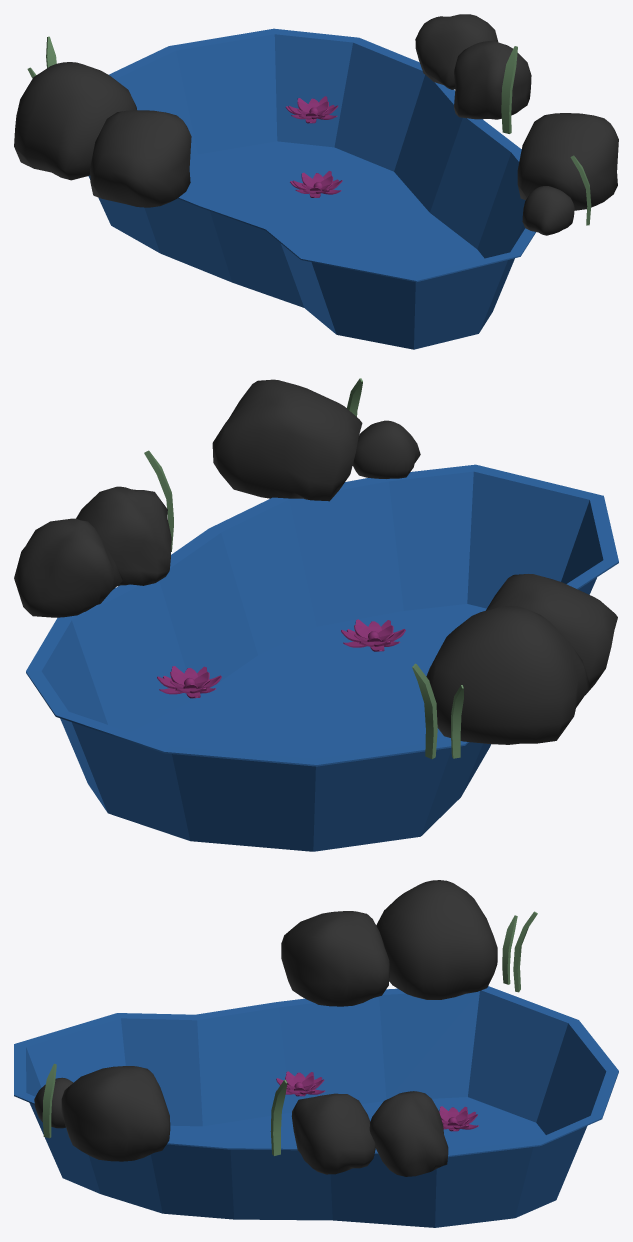
Rendered from Pond.FBX.
3 views of the same model, one above another, from view 1: azimuth 30°, elevation 25°; view 2: azimuth 150°, elevation 25°; view 3: azimuth 270°, elevation 25° (orthographic). The views are drawn at different scales.
Parts seen in each view (by area): view 1: PondBase, Rocks, Grass, Lotus001, Lotus; view 2: PondBase, Rocks, Grass, Lotus, Lotus001; view 3: PondBase, Rocks, Grass, Lotus, Lotus001.
Part boxes in pixels (left/top/right/bottom): PondBase: left=88, top=28, right=535, bottom=349; Rocks: left=14, top=14, right=618, bottom=235; Grass: left=27, top=36, right=591, bottom=225; Lotus001: left=285, top=96, right=338, bottom=123; Lotus: left=290, top=171, right=342, bottom=197; PondBase: left=26, top=464, right=618, bottom=851; Rocks: left=14, top=379, right=617, bottom=744; Grass: left=144, top=378, right=463, bottom=759; Lotus: left=341, top=619, right=405, bottom=651; Lotus001: left=157, top=666, right=221, bottom=698; PondBase: left=14, top=986, right=618, bottom=1227; Rocks: left=34, top=880, right=497, bottom=1176; Grass: left=42, top=911, right=537, bottom=1155; Lotus: left=276, top=1071, right=325, bottom=1096; Lotus001: left=439, top=1106, right=478, bottom=1131.
Bounding box in the file's own units: 45.85 × 17.59 × 52.08.
